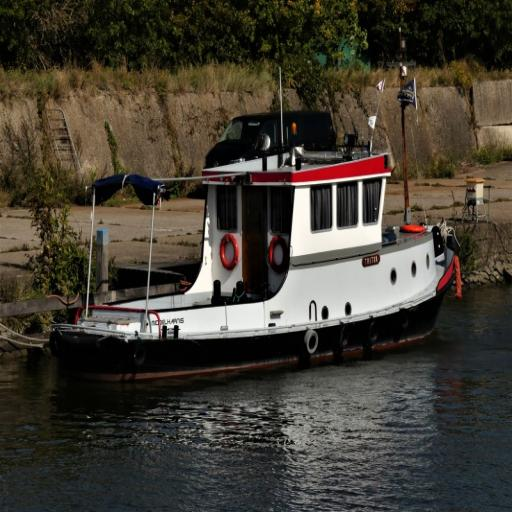tugboat: (47, 25, 466, 409)
